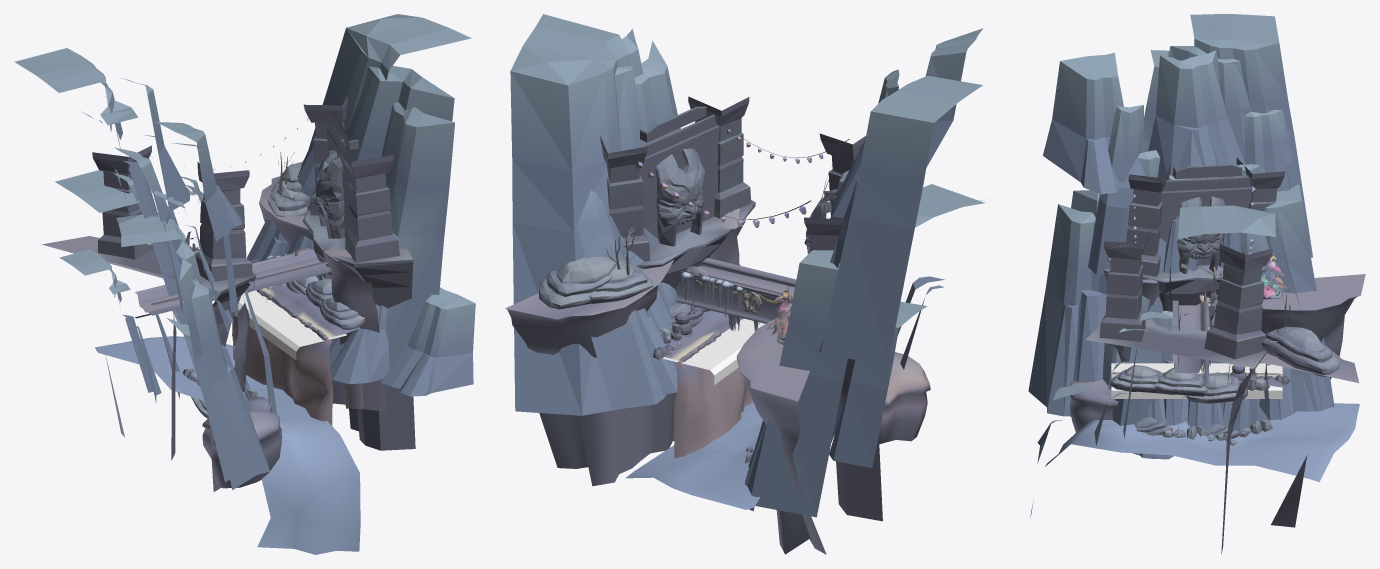
The model's file is Arctic_Narrows_Left_Slide_A.glb.
3 views of the same model, side by side, from view 1: azimuth 30°, elevation 25°; view 2: azimuth 150°, elevation 25°; view 3: azimuth 270°, elevation 25° (orthographic). The views are drawn at different scales.
Parts seen in each view (by area): view 1: Arctic_Narrows_Left_Slide_A, Arctic_Narrows_Left_IceWall_A02 (1), Arctic_Narrows_Right_IceWall_A01 (1), Arctic_Narrows_Arc_Base (×2), Arctic_Narrows_Arc_RPillar (×2), Arctic_Narrows_Left_IceWall_A02_Right, Arctic_Narrows_Right_IceWall_A02 (3), Arctic_Narrows_Arc_LPillar (×2), Arctic_Narrows_Right_IceWall_A01_Left, Arctic_Narrows_Left_IceWall_A02_Mid, inv_fill, Arctic_Narrows_Right_IceWall_A02 (2) (+7 smaller); view 2: Arctic_Narrows_Left_Slide_A, Arctic_Narrows_Left_IceWall_A02 (1), Arctic_Narrows_Right_IceWall_A02 (3), Arctic_Narrows_Right_IceWall_A02 (1), Arctic_Narrows_Left_IceWall_A02_Left, Arctic_Narrows_Arc_Base (×2), Arctic_Narrows_Arc_Backwall, Arctic_Narrows_Right_IceWall_A02 (2), Arctic_Narrows_Arc_LPillar (×2), Arctic_Narrows_Arc_RPillar (×2), Arctic_Narrows_Right_IceWall_A01_Left, Arctic_Narrows_Right_IceWall_A01 (1) (+9 smaller); view 3: Arctic_Narrows_Left_Slide_A, Arctic_Narrows_Right_IceWall_A01_Left, Arctic_Narrows_Right_IceWall_A01 (1), Arctic_Narrows_Right_IceWall_A02 (3), Arctic_Narrows_Arc_LPillar (×2), Arctic_Narrows_Right_IceWall_A02_Left (×2), Arctic_Narrows_Arc_Base (×2), Arctic_Narrows_Right_IceWall_A02_Right (×3), Arctic_Narrows_Arc_RPillar (×2), Arctic_Narrows_Right_IceWall_A02 (1), Arctic_Narrows_Arc_Backwall, Arctic_Narrows_Left_IceWall_A02 (1) (+12 smaller).
Part boxes in pixels (x1,y1,x2,y2): Arctic_Narrows_Left_Slide_A: (41, 176, 386, 554); Arctic_Narrows_Left_IceWall_A02 (1): (308, 14, 471, 369); Arctic_Narrows_Right_IceWall_A01 (1): (116, 213, 269, 489); Arctic_Narrows_Arc_Base (×2): (91, 209, 415, 491); Arctic_Narrows_Arc_RPillar (×2): (92, 145, 399, 262); Arctic_Narrows_Left_IceWall_A02_Right: (380, 287, 475, 396); Arctic_Narrows_Right_IceWall_A02 (3): (15, 48, 183, 314); Arctic_Narrows_Arc_LPillar (×2): (195, 96, 347, 281); Arctic_Narrows_Right_IceWall_A01_Left: (121, 78, 242, 241); Arctic_Narrows_Left_IceWall_A02_Mid: (316, 273, 389, 384); inv_fill: (214, 290, 346, 359); Arctic_Narrows_Right_IceWall_A02 (2): (59, 249, 161, 402); Arctic_Narrows_Left_Slide_A: (505, 208, 930, 554); Arctic_Narrows_Left_IceWall_A02 (1): (510, 14, 680, 415); Arctic_Narrows_Right_IceWall_A02 (3): (819, 75, 982, 365); Arctic_Narrows_Right_IceWall_A02 (1): (745, 250, 847, 517); Arctic_Narrows_Left_IceWall_A02_Left: (567, 190, 677, 409); Arctic_Narrows_Arc_Base (×2): (636, 200, 882, 521); Arctic_Narrows_Arc_Backwall: (638, 106, 719, 239); Arctic_Narrows_Right_IceWall_A02 (2): (829, 301, 927, 467); Arctic_Narrows_Arc_LPillar (×2): (600, 133, 865, 261); Arctic_Narrows_Arc_RPillar (×2): (688, 96, 843, 250); Arctic_Narrows_Right_IceWall_A01_Left: (831, 28, 983, 219); Arctic_Narrows_Right_IceWall_A01 (1): (831, 184, 984, 441); Arctic_Narrows_Left_Slide_A: (1030, 269, 1365, 527); Arctic_Narrows_Right_IceWall_A01_Left: (1043, 50, 1244, 194); Arctic_Narrows_Right_IceWall_A01 (1): (1028, 190, 1106, 416); Arctic_Narrows_Right_IceWall_A02 (3): (1143, 14, 1312, 257); Arctic_Narrows_Arc_LPillar (×2): (1126, 162, 1272, 359); Arctic_Narrows_Right_IceWall_A02_Left (×2): (1088, 105, 1182, 425); Arctic_Narrows_Arc_Base (×2): (1085, 255, 1268, 553); Arctic_Narrows_Right_IceWall_A02_Right (×3): (1217, 109, 1322, 419); Arctic_Narrows_Arc_RPillar (×2): (1099, 158, 1285, 341); Arctic_Narrows_Right_IceWall_A02 (1): (1241, 184, 1334, 411); Arctic_Narrows_Arc_Backwall: (1159, 164, 1252, 265); Arctic_Narrows_Left_IceWall_A02 (1): (1107, 205, 1300, 438).
Size of what is drawn, in the model's own units: 27.61 by 28.89 by 21.54.
